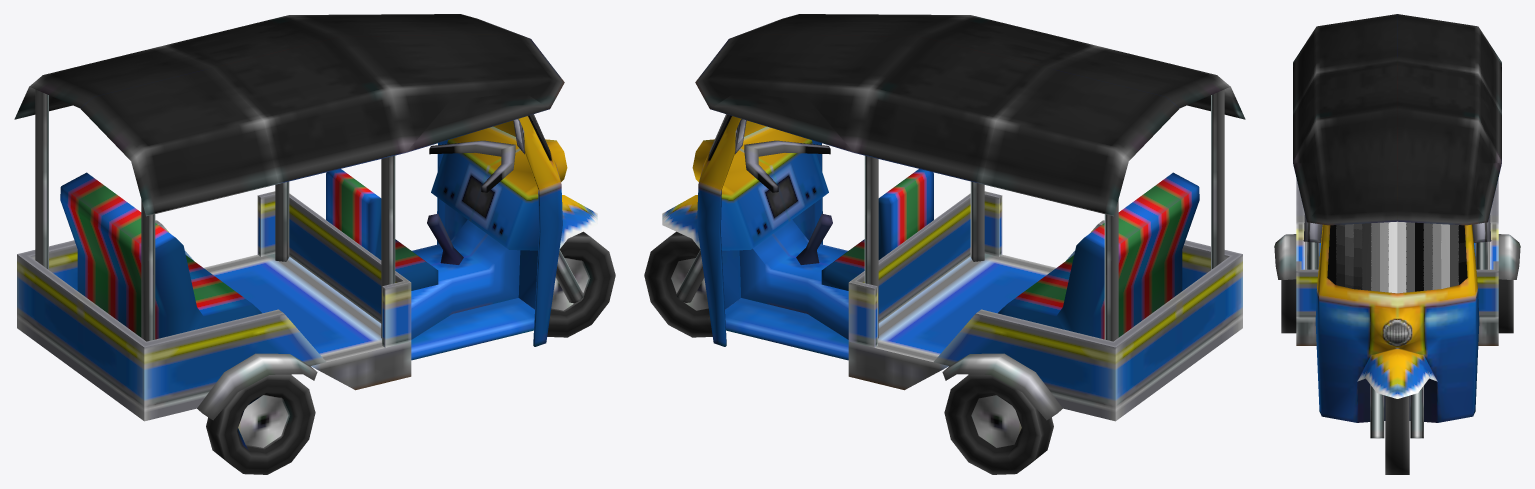
File: int_jhn_tukutuku.dae
3 views of the same model, side by side, from view 1: azimuth 30°, elevation 25°; view 2: azimuth 150°, elevation 25°; view 3: azimuth 270°, elevation 25° (orthographic). The views are drawn at different scales.
Parts seen in each view (by area): view 1: int_jhn_tukutuku; view 2: int_jhn_tukutuku; view 3: int_jhn_tukutuku.
Part boxes in pixels (x1,y1,x2,y2): int_jhn_tukutuku: [14, 14, 615, 474]; int_jhn_tukutuku: [644, 14, 1245, 474]; int_jhn_tukutuku: [1274, 14, 1520, 474].
Bounding box in the file's own units: 60.83 × 38.41 × 30.98.
2 materials, 2 textured.
